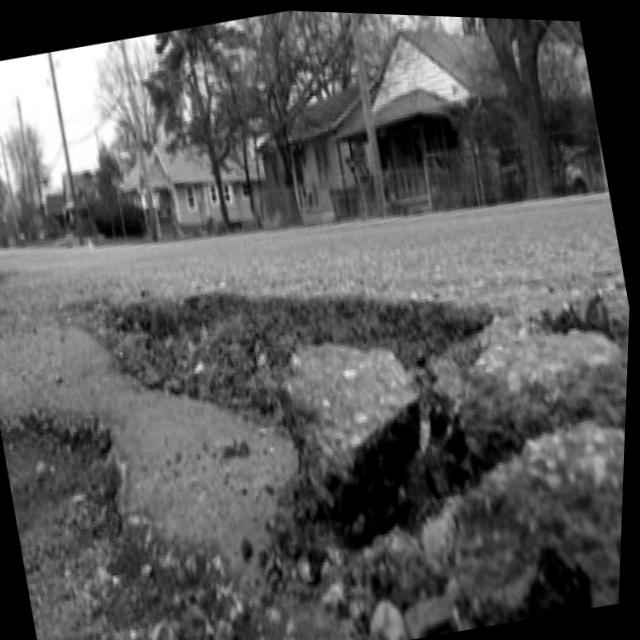pathole: (0, 192, 632, 640)
